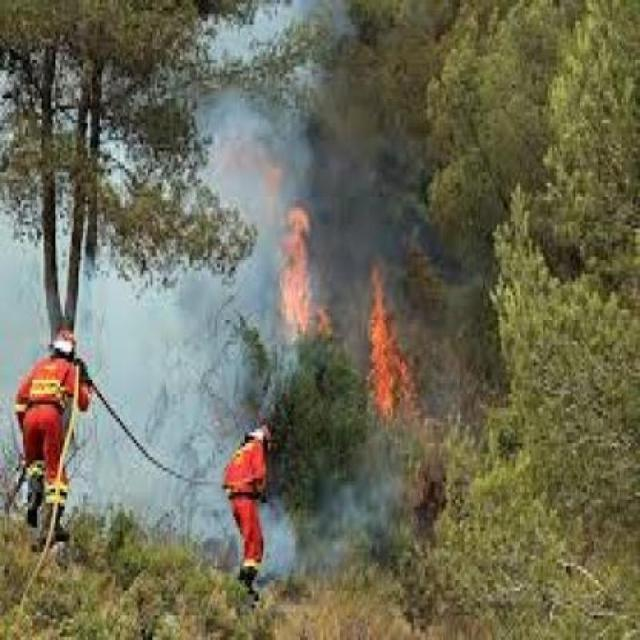Fire: (318, 246, 416, 402)
Smoke: (0, 227, 280, 578)
